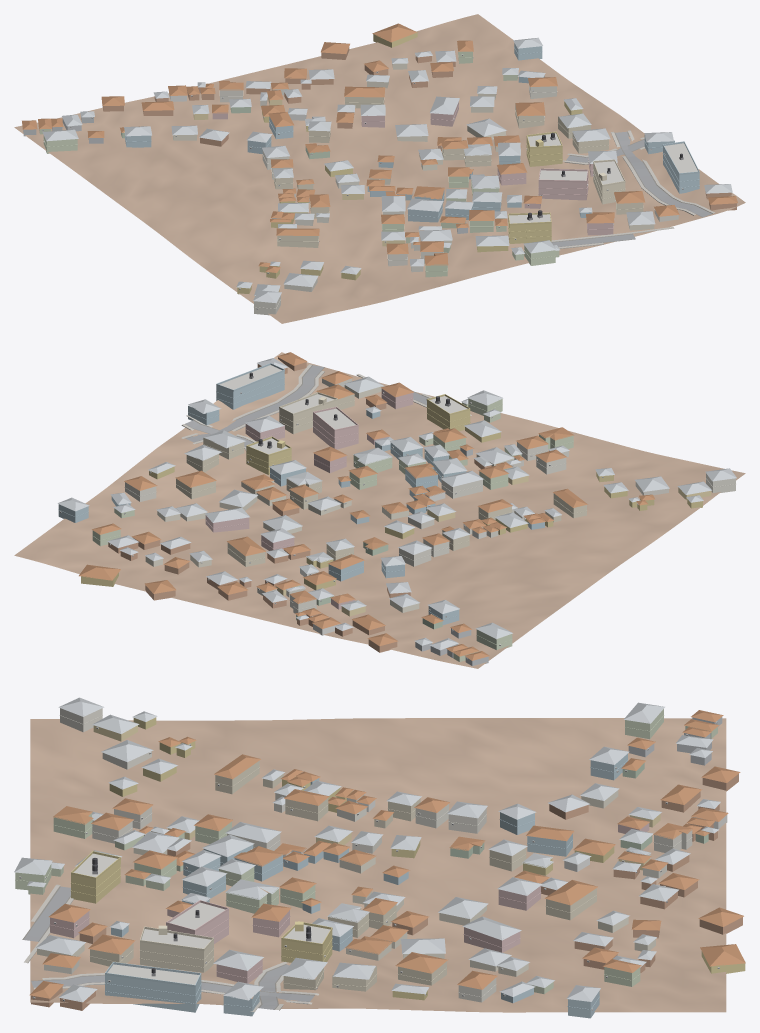
3 renders of one model, top to bottom at view 1: azimuth 30°, elevation 25°; view 2: azimuth 150°, elevation 25°; view 3: azimuth 270°, elevation 25°, orthographic. The views are drawn at different scales.
Visible parts, largest first — view 1: Terrain-col, Buildings-col, Details, Roads-col, Sidewalks-col; view 2: Terrain-col, Buildings-col, Details, Roads-col, Sidewalks-col; view 3: Terrain-col, Buildings-col, Details, Roads-col, Sidewalks-col.
Boxes of the visible parts, box(x1,y1,x2,y2) form: Terrain-col: box(14, 14, 745, 323); Buildings-col: box(22, 23, 737, 315); Details: box(42, 47, 737, 309); Roads-col: box(551, 131, 712, 247); Sidewalks-col: box(551, 130, 714, 248); Terrain-col: box(14, 352, 745, 668); Buildings-col: box(57, 352, 736, 666); Details: box(58, 363, 735, 659); Roads-col: box(185, 365, 428, 446); Sidewalks-col: box(181, 364, 471, 450); Terrain-col: box(30, 718, 726, 1012); Buildings-col: box(14, 697, 745, 1018); Details: box(15, 715, 719, 1010); Roads-col: box(22, 886, 314, 1009); Sidewalks-col: box(24, 884, 318, 1011).
Bounding box in the file's own units: 267 × 18.14 × 269.
